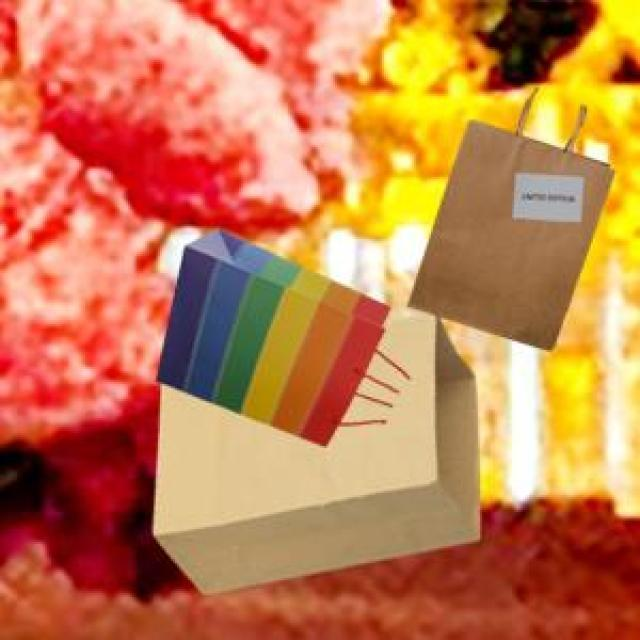Paper_Bag: (150, 310, 477, 590), (404, 90, 611, 347), (152, 225, 388, 443)
